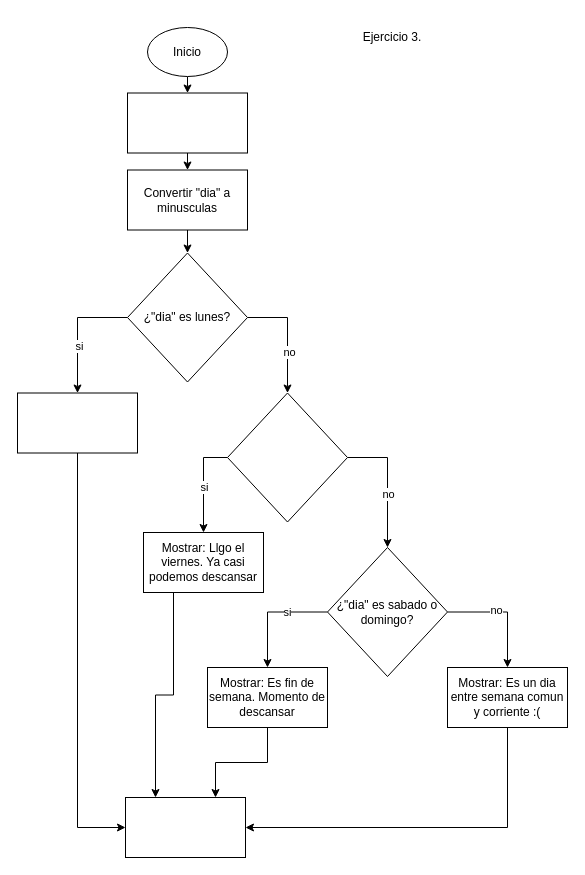
The diagram is 585 pixels wide and 875 high, and some of its shapes have lost their labels. The box of each missing label's shape, as (x1, y1, x2, y2) in pixels:
Fin: (124, 796, 246, 858)
Ingresar un dia de la semana: (126, 92, 248, 153)
Mostrar: Es inicio de semana. Animo...: (16, 392, 138, 453)
¿"dia" es viernes?: (226, 392, 348, 522)
